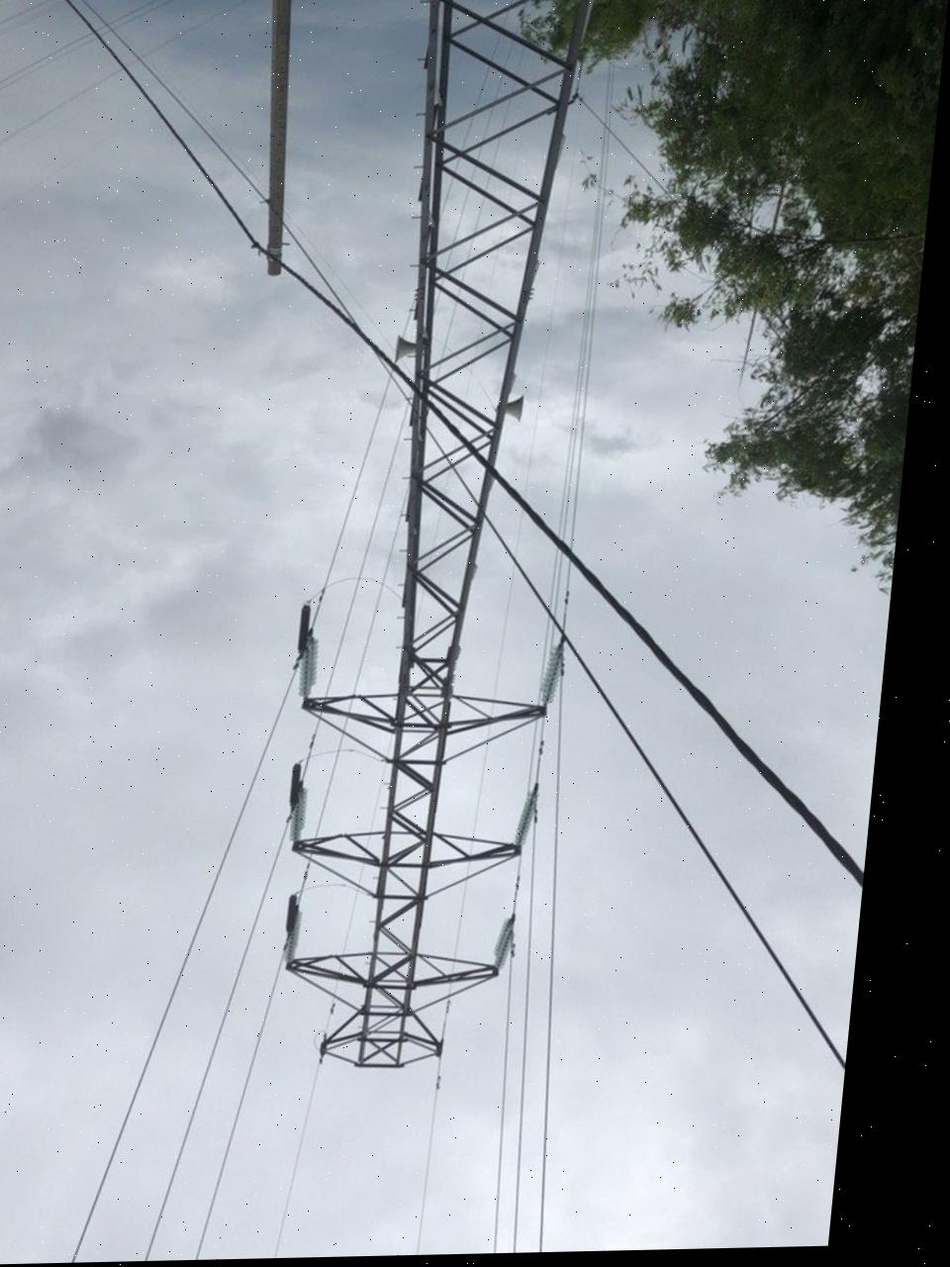tower: (233, 0, 639, 1093)
